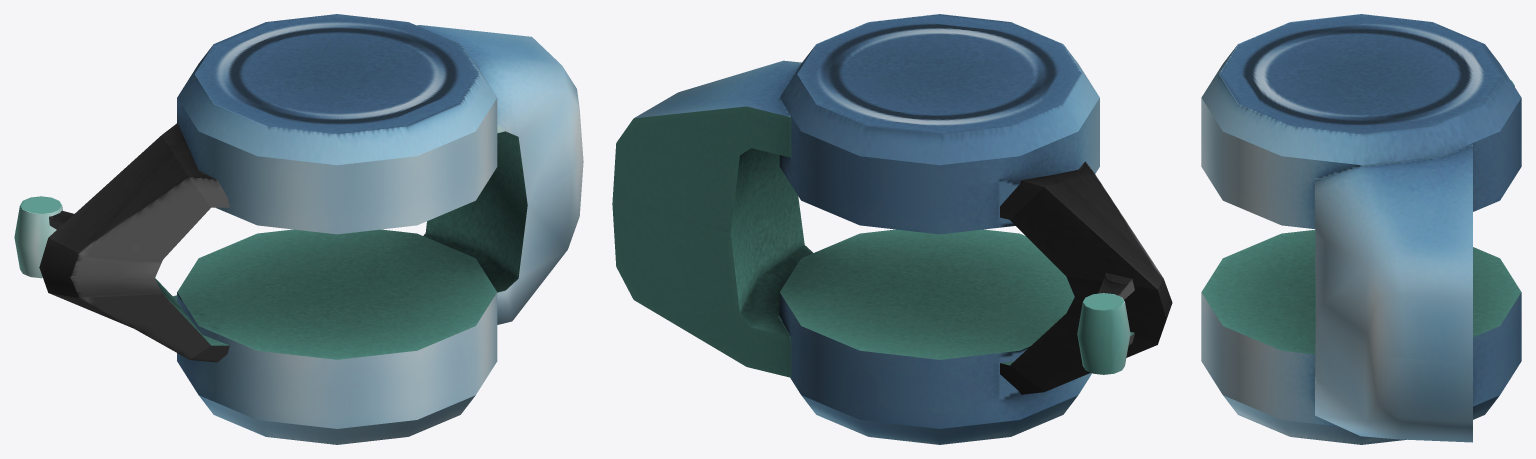
Rendered from CasterBracket_Left.obj.
3 renders of one model, left to right at view 1: azimuth 30°, elevation 25°; view 2: azimuth 150°, elevation 25°; view 3: azimuth 270°, elevation 25°, orthographic.
Visible parts, largest first — view 1: Foot_Left; view 2: Foot_Left; view 3: Foot_Left.
Part boxes in pixels (x1,y1,x2,y2): Foot_Left: (14,14,583,444); Foot_Left: (612,14,1172,444); Foot_Left: (1201,14,1521,444).
Bounding box in the file's own units: 0.3251 × 0.1806 × 0.1688.
Materials: 1 (1 with a texture image).
